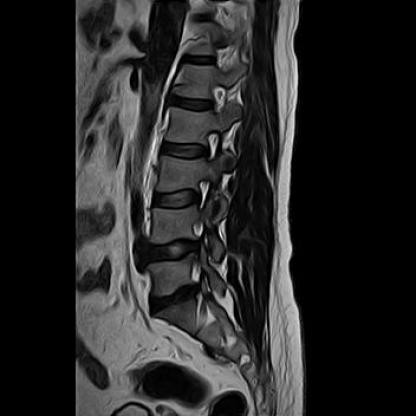Disc Bulgerotation: (141, 227, 202, 280), (145, 280, 202, 323)
